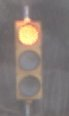Red: (11, 12, 48, 107)
